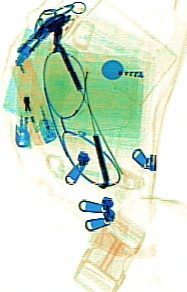lighter: (9, 57, 58, 146), (8, 52, 35, 146)
